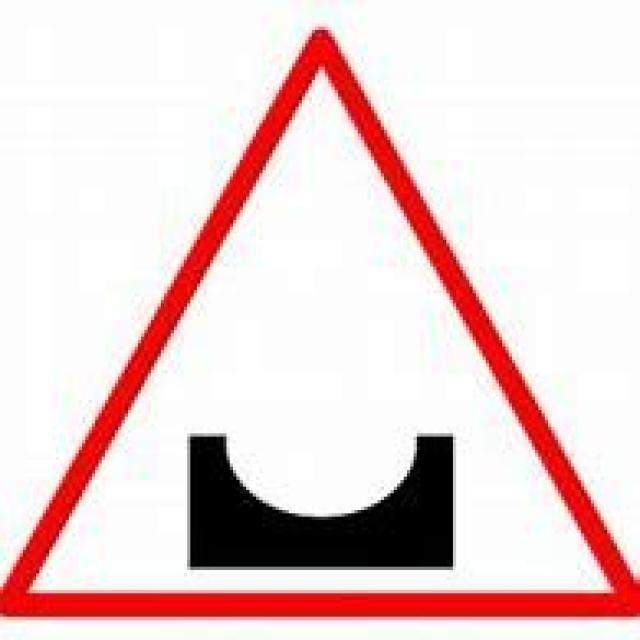dangerous dip: (19, 25, 615, 618)
